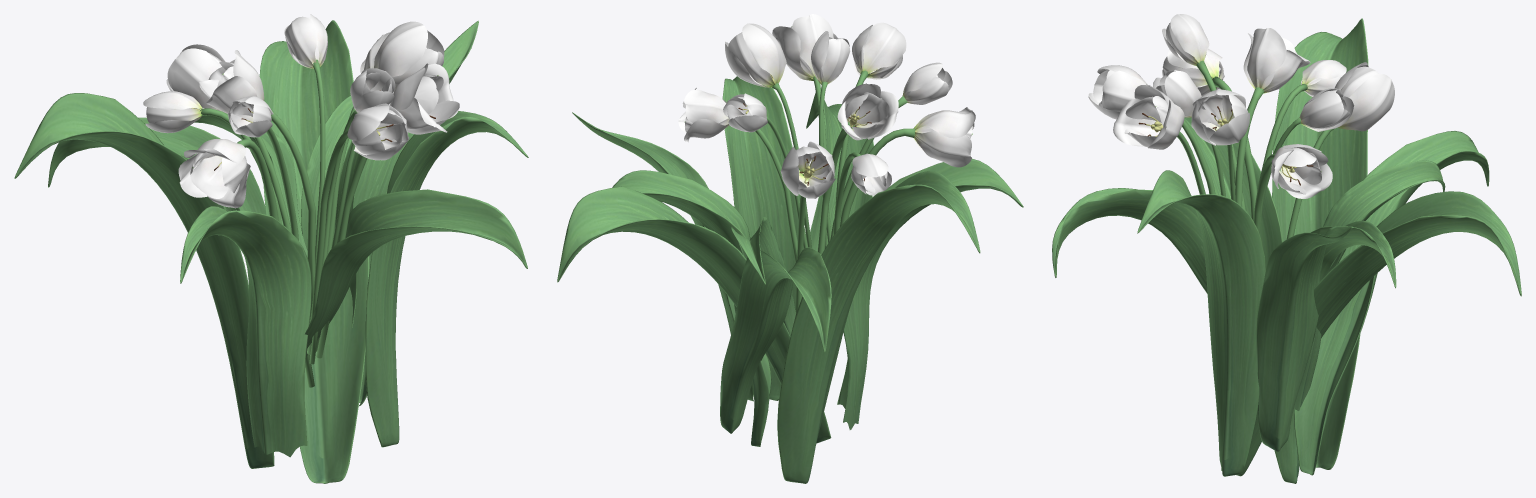
File: tulipanesblancos.glb
The picture shows the model from 3 angles, left to right: view 1: azimuth 30°, elevation 25°; view 2: azimuth 150°, elevation 25°; view 3: azimuth 270°, elevation 25°; orthographic projection. The views are drawn at different scales.
Parts seen in each view (by area): view 1: flower.004; view 2: flower.004; view 3: flower.004.
Part boxes in pixels (x1,y1,x2,y2): flower.004: (14,14,528,483); flower.004: (557,14,1023,483); flower.004: (1052,14,1521,483).
Size of the model in its own units: 0.4172 by 0.3904 by 0.3883.
Materials: 4 (2 with a texture image).
